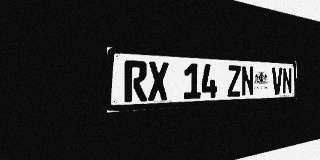1: (184, 63, 201, 99)
4: (201, 64, 217, 98)
N: (241, 66, 254, 96), (282, 67, 292, 94)
R: (124, 60, 147, 102)
V: (272, 67, 282, 95)
X: (148, 61, 169, 101)
Z: (227, 65, 241, 97)
